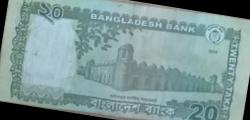20 taka: (8, 2, 243, 120)
